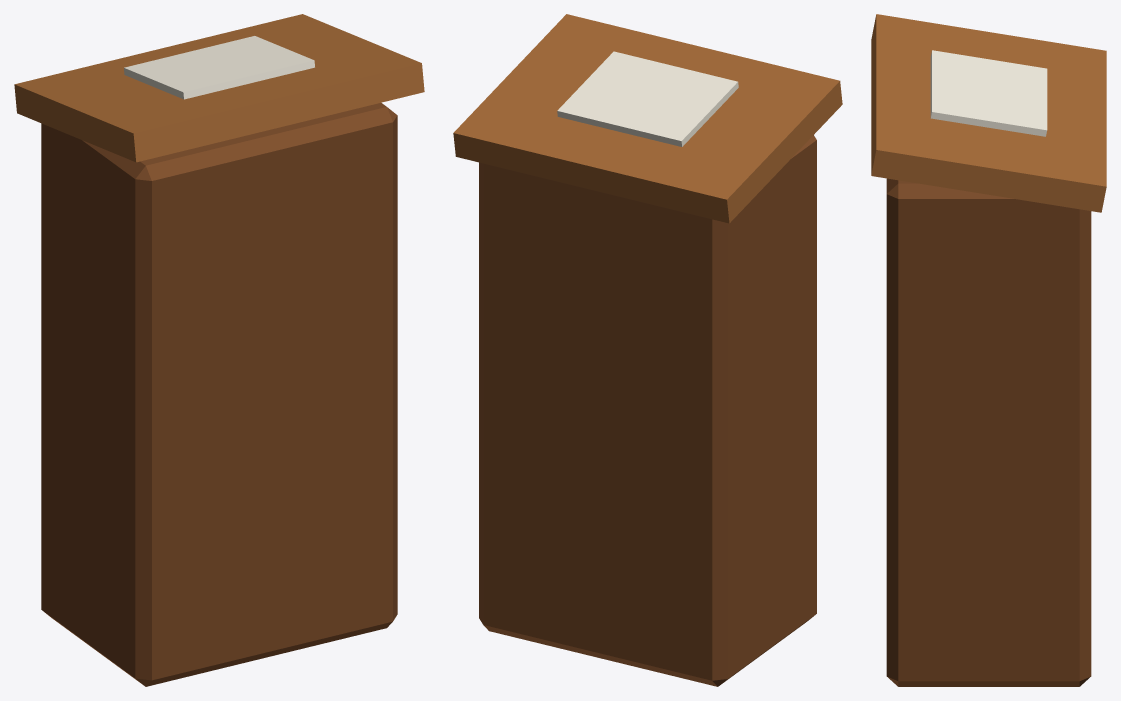
Rendered from HostStand.fbx.
The picture shows the model from 3 angles, left to right: view 1: azimuth 30°, elevation 25°; view 2: azimuth 150°, elevation 25°; view 3: azimuth 270°, elevation 25°; orthographic projection. The views are drawn at different scales.
Visible parts, largest first — view 1: HostStand; view 2: HostStand; view 3: HostStand.
Part boxes in pixels (x1,y1,x2,y2): HostStand: [14, 14, 424, 686]; HostStand: [453, 14, 842, 686]; HostStand: [871, 14, 1106, 686].
Size of the model in its own units: 2.2 by 4.14 by 1.61.
Materials: 1 (1 with a texture image).
